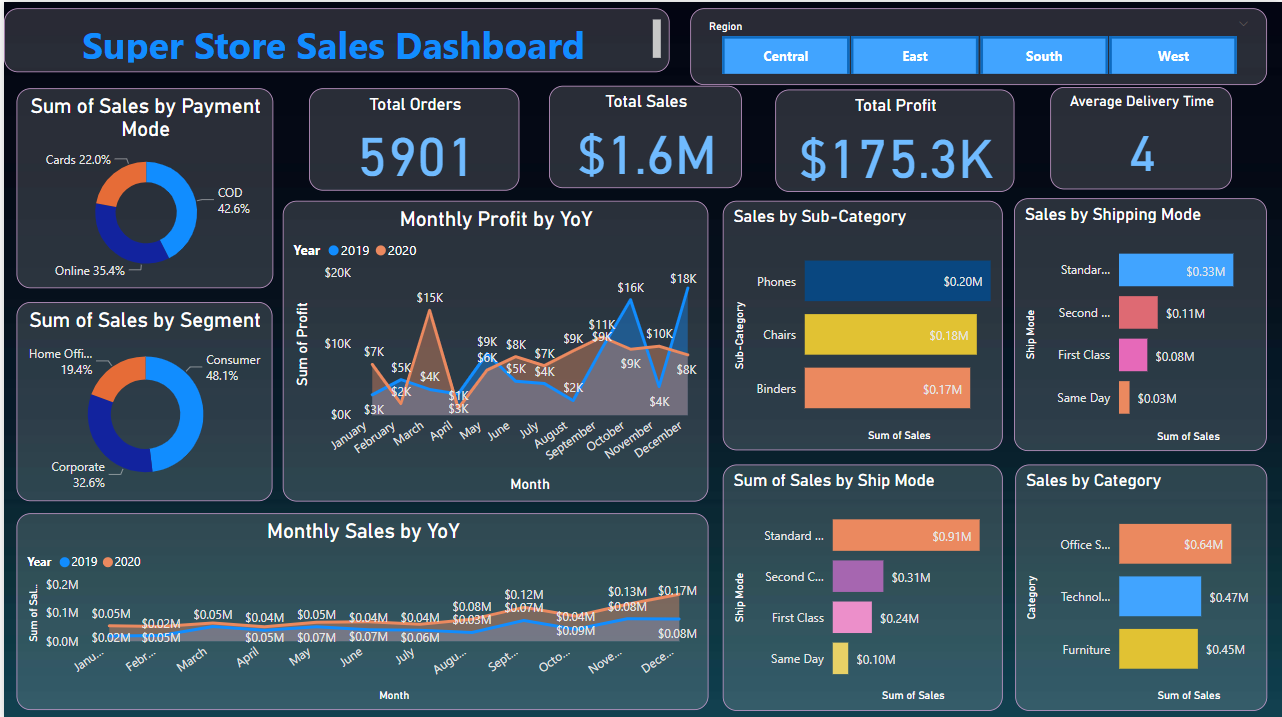

This screenshot's page, from the dashboard's own definition file:
{"tool":"powerbi","page":{"name":"Page 1","canvas":[1280,720],"ordinal":0},"visuals":[{"type":"barChart","title":"Sales by Category","fields":{"Category":["SuperStore_Sales_Dataset.Category"],"Y":["Sum(SuperStore_Sales_Dataset.Sales)"]},"box":[1010.7,461.9,252.1,246],"z":0},{"type":"barChart","title":"Sales by Sub-Category","fields":{"Y":["Sum(SuperStore_Sales_Dataset.Sales)"],"Category":["SuperStore_Sales_Dataset.Sub-Category"]},"box":[719,199,279.9,249.7],"z":1000},{"type":"barChart","title":"Sales by Shipping Mode","fields":{"Y":["Sum(SuperStore_Sales_Dataset.Sales)"],"Category":["SuperStore_Sales_Dataset.Ship Mode"]},"box":[1010,196.2,252.5,252.5],"z":2000},{"type":"areaChart","title":"Monthly Sales by YoY","fields":{"Y":["Sum(SuperStore_Sales_Dataset.Sales)"],"Series":["SuperStore_Sales_Dataset.Order Date.Variation.Date Hierarchy.Year"],"Category":["SuperStore_Sales_Dataset.Order Date.Variation.Date Hierarchy.Month"]},"box":[12.1,511.4,692.3,196.6],"z":3000},{"type":"areaChart","title":"Monthly Profit by YoY","fields":{"Series":["SuperStore_Sales_Dataset.Order Date.Variation.Date Hierarchy.Year"],"Category":["SuperStore_Sales_Dataset.Order Date.Variation.Date Hierarchy.Month"],"Y":["Sum(SuperStore_Sales_Dataset.Profit)"]},"box":[278.6,199,425.4,300.5],"z":4000},{"type":"donutChart","fields":{"Category":["SuperStore_Sales_Dataset.Segment"],"Y":["Sum(SuperStore_Sales_Dataset.Sales)"]},"box":[12.1,300.3,255.7,199],"z":5000},{"type":"donutChart","fields":{"Y":["Sum(SuperStore_Sales_Dataset.Sales)"],"Category":["SuperStore_Sales_Dataset.Payment Mode"]},"box":[12.1,86.8,256.9,200.2],"z":6000},{"type":"slicer","fields":{"Values":["SuperStore_Sales_Dataset.Region"]},"box":[686.2,6,576.5,77.2],"z":7000},{"type":"card","title":"Total Sales","fields":{"Values":["Sum(SuperStore_Sales_Dataset.Sales)"]},"box":[544.4,83.4,192.9,102.6],"z":8000},{"type":"card","title":"Total Orders","fields":{"Values":["CountNonNull(SuperStore_Sales_Dataset.Order ID)"]},"box":[305,86.2,210.6,102.6],"z":9000},{"type":"card","title":"Total Profit","fields":{"Values":["Sum(SuperStore_Sales_Dataset.Profit)"]},"box":[771.4,87.5,239.4,102.6],"z":10000},{"type":"card","title":"Average Delivery Time","fields":{"Values":["Avg(SuperStore_Sales_Dataset.Average Delivery Time)"]},"box":[1046.4,84.8,181.9,102.6],"z":11000},{"type":"barChart","fields":{"Category":["SuperStore_Sales_Dataset.Ship Mode"],"Y":["Sum(SuperStore_Sales_Dataset.Sales)"]},"box":[718.8,461.9,279.8,246],"z":12000},{"type":"textbox","box":[0,6,665.7,63.9],"z":13000}]}

Visuals, with their boxes in screenshot pixels (x1, y1, x2, y2), scaled from the page's 1280x720 canvas onto the 1282x717 screenshot:
"Sales by Category" barChart: BBox(1012, 460, 1265, 705)
"Sales by Sub-Category" barChart: BBox(720, 198, 1000, 447)
"Sales by Shipping Mode" barChart: BBox(1012, 195, 1264, 447)
"Monthly Sales by YoY" areaChart: BBox(12, 509, 706, 705)
"Monthly Profit by YoY" areaChart: BBox(279, 198, 705, 497)
donutChart - SuperStore_Sales_Dataset.Segment x Sum(SuperStore_Sales_Dataset.Sales): BBox(12, 299, 268, 497)
donutChart - Sum(SuperStore_Sales_Dataset.Sales) x SuperStore_Sales_Dataset.Payment Mode: BBox(12, 86, 269, 286)
slicer - SuperStore_Sales_Dataset.Region: BBox(687, 6, 1265, 83)
"Total Sales" card: BBox(545, 83, 738, 185)
"Total Orders" card: BBox(305, 86, 516, 188)
"Total Profit" card: BBox(773, 87, 1012, 189)
"Average Delivery Time" card: BBox(1048, 84, 1230, 187)
barChart - SuperStore_Sales_Dataset.Ship Mode x Sum(SuperStore_Sales_Dataset.Sales): BBox(720, 460, 1000, 705)
textbox: BBox(0, 6, 667, 70)
